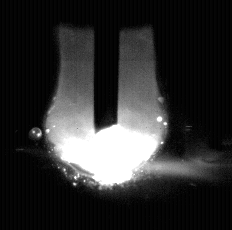arame: (94, 0, 119, 132)
poca: (44, 0, 169, 230)
